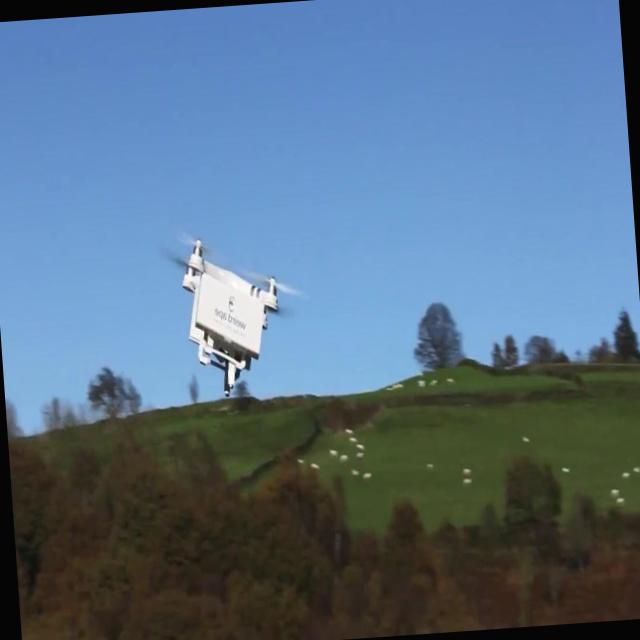drone: (164, 228, 312, 400)
